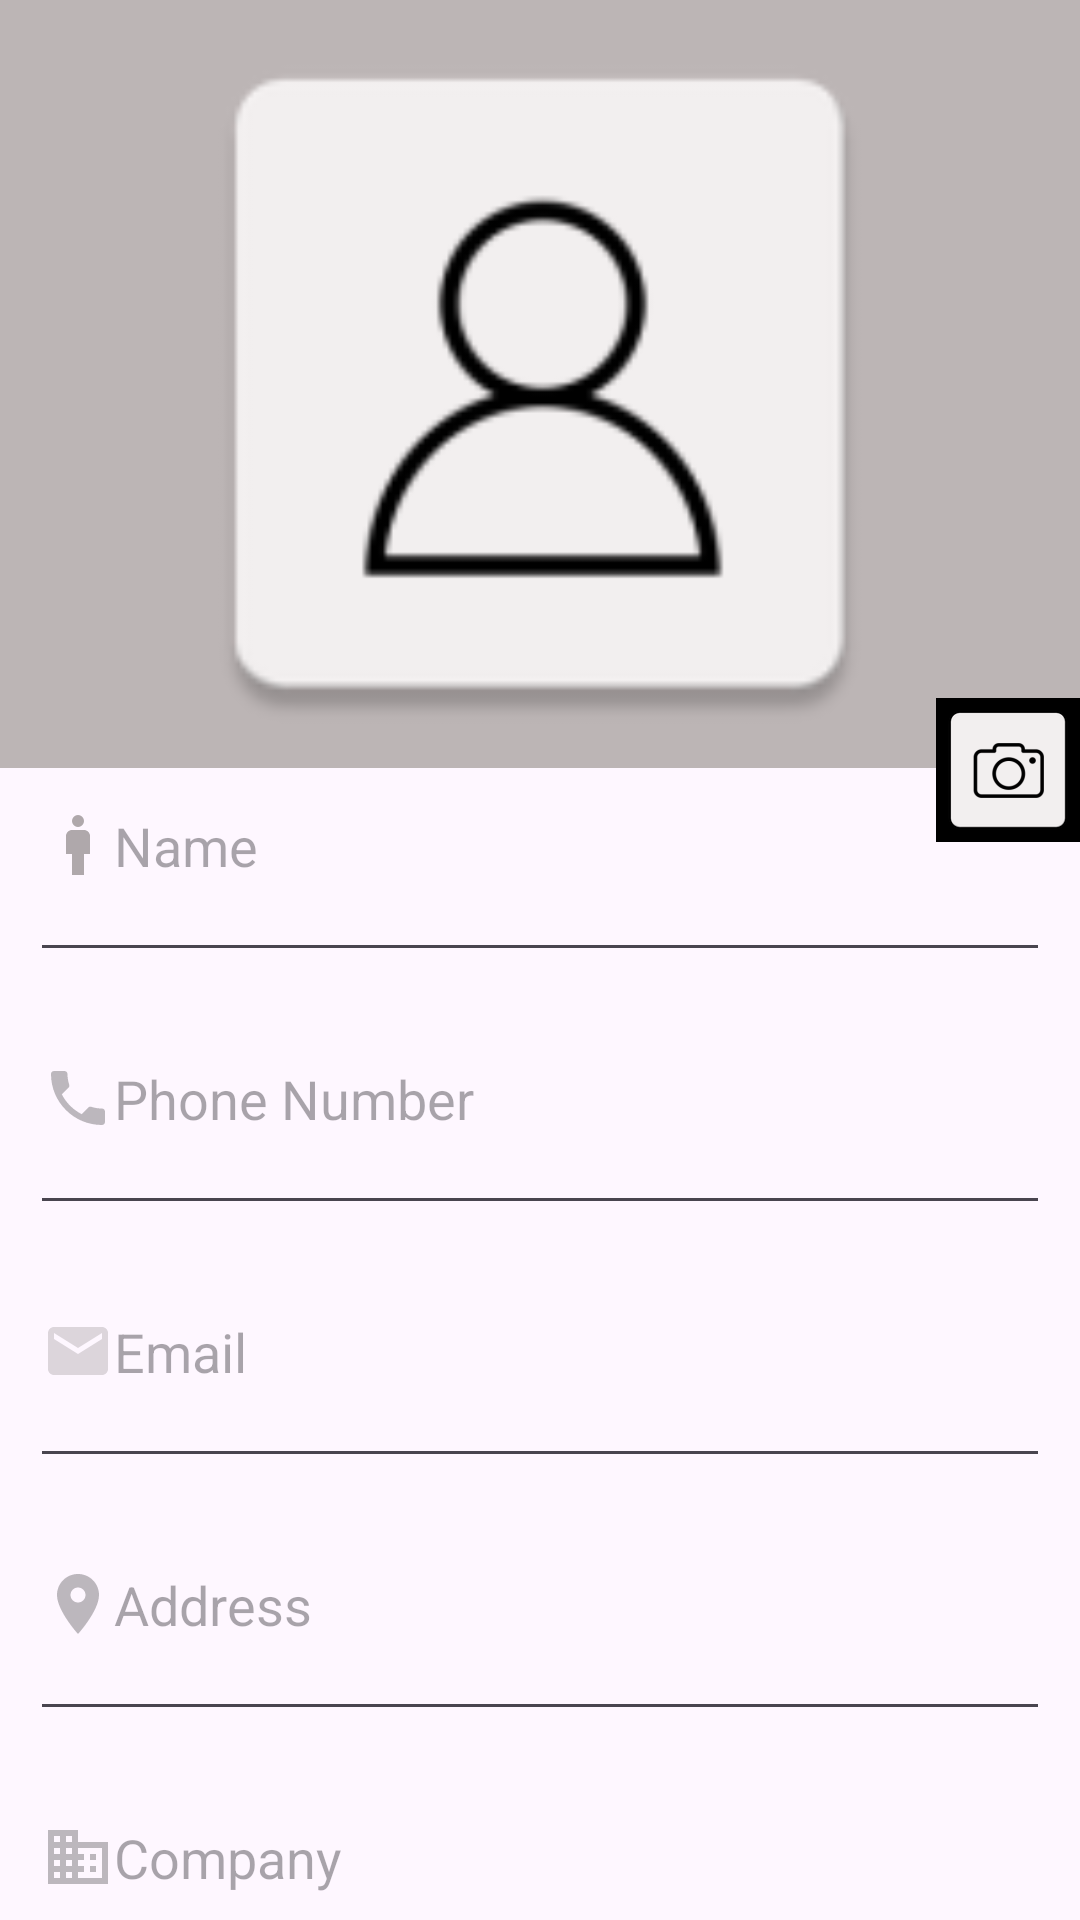

Icons on this 1080*1920 Android screen, each with the point to tap as (x=x, y=y):
camera: (x=1008, y=770)
